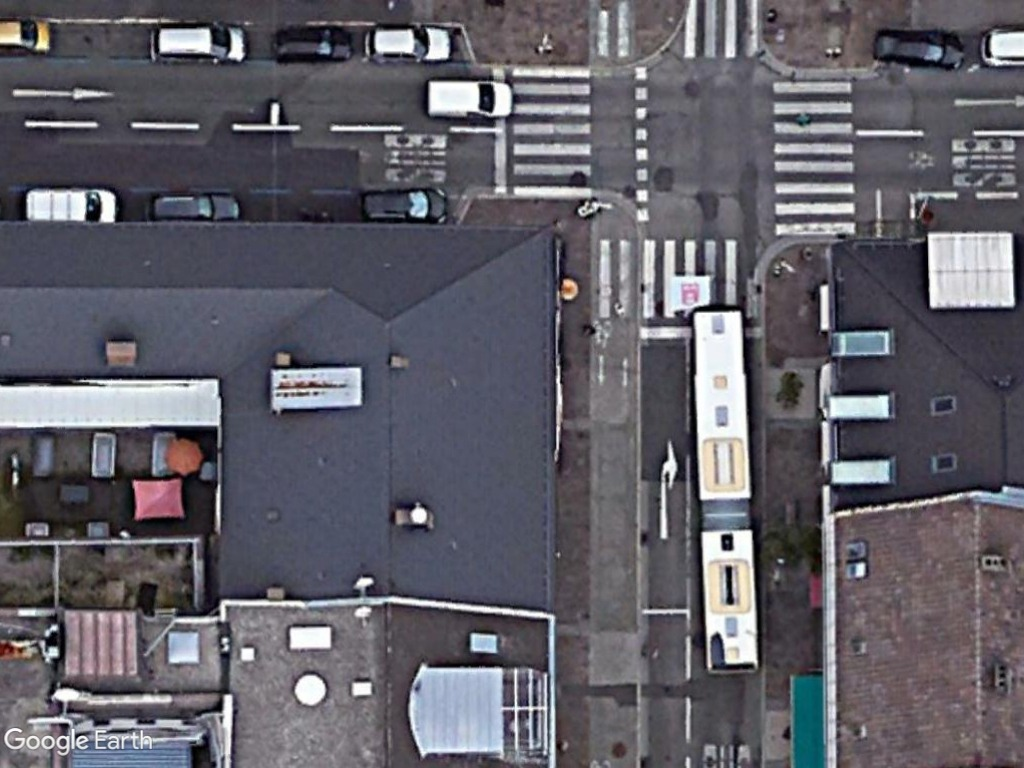bus: (690, 303, 757, 508), (697, 523, 762, 678)
car: (870, 25, 970, 73), (146, 21, 250, 67), (362, 22, 455, 66), (269, 22, 357, 66), (356, 185, 449, 226)
van: (424, 74, 518, 125), (21, 181, 120, 228)
